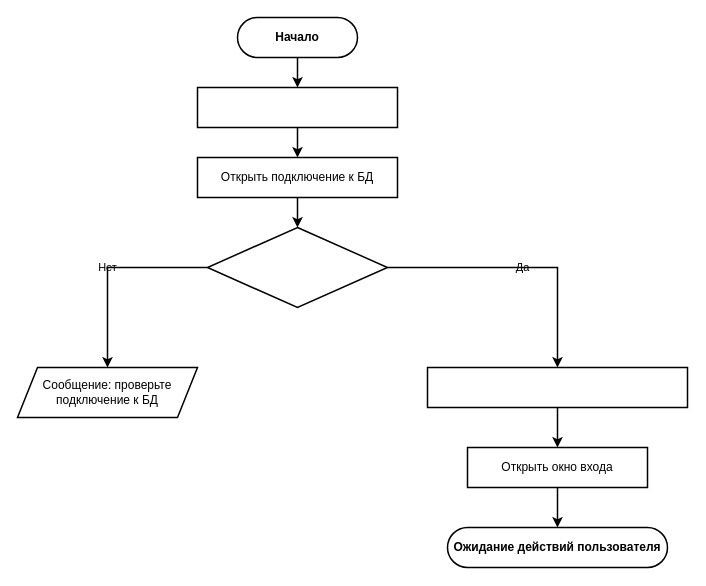
This 706x586 diagram has some shape labels left out. Here are the shapes that lost their labels. From the top down, the box of each, then its label:
(196, 86, 398, 128): Загрузить настройки приложения
(206, 226, 388, 308): Подключение успешно?
(426, 366, 688, 408): Загрузить иконку, логотип и заглушку фото
